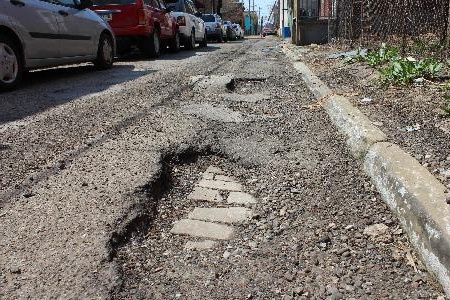pothole: (98, 145, 276, 298), (222, 74, 269, 96)
